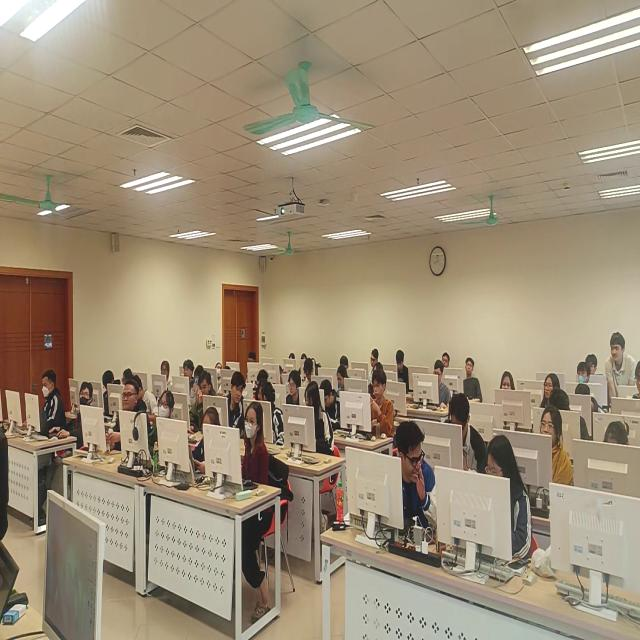raise_hand: (361, 428, 439, 550), (193, 376, 220, 425)
raise_head: (231, 408, 268, 519), (532, 413, 571, 487), (113, 385, 149, 453), (67, 384, 95, 458), (152, 393, 177, 466), (495, 367, 519, 413), (538, 374, 562, 412), (156, 361, 174, 397), (180, 363, 197, 398), (369, 348, 384, 373), (576, 365, 591, 388), (587, 352, 599, 378), (440, 353, 451, 374)
stand: (608, 333, 637, 417)
using_computer: (468, 438, 531, 569), (432, 402, 485, 481), (348, 376, 396, 443), (591, 421, 635, 492), (26, 373, 63, 451), (418, 363, 451, 414), (276, 374, 302, 410), (322, 384, 343, 425), (396, 349, 412, 393), (335, 368, 353, 396)
using_phone: (190, 415, 225, 489)
